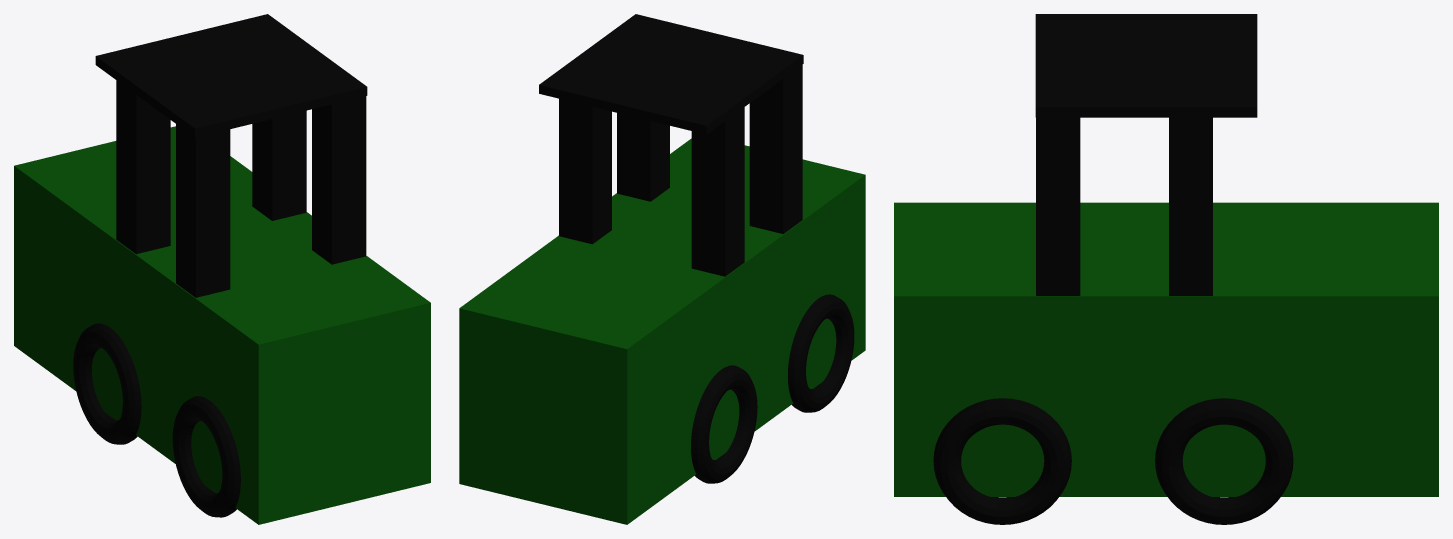
Rendered from Tractor.obj.
The picture shows the model from 3 angles, left to right: view 1: azimuth 30°, elevation 25°; view 2: azimuth 150°, elevation 25°; view 3: azimuth 270°, elevation 25°; orthographic projection. The views are drawn at different scales.
Parts seen in each view (by area): view 1: Cube_Cube.015, Cube.005_Cube.020, Cube.001_Cube.016, Cube.002_Cube.017, Cube.003_Cube.018, Cube.004_Cube.019, Torus, Torus.001; view 2: Cube_Cube.015, Cube.005_Cube.020, Cube.003_Cube.018, Cube.001_Cube.016, Cube.004_Cube.019, Torus, Torus.001, Cube.002_Cube.017; view 3: Cube_Cube.015, Cube.005_Cube.020, Torus.002, Torus.003, Cube.002_Cube.017, Cube.004_Cube.019.
Boxes of the visible parts, box(x1,y1,x2,y2) form: Cube_Cube.015: box(14, 126, 430, 524); Cube.005_Cube.020: box(95, 14, 367, 137); Cube.001_Cube.016: box(176, 124, 230, 297); Cube.002_Cube.017: box(312, 96, 366, 264); Cube.003_Cube.018: box(116, 80, 170, 254); Cube.004_Cube.019: box(252, 110, 306, 220); Torus: box(73, 323, 141, 444); Torus.001: box(172, 396, 240, 517); Cube_Cube.015: box(459, 138, 865, 524); Cube.005_Cube.020: box(539, 14, 803, 134); Cube.003_Cube.018: box(691, 107, 744, 276); Cube.001_Cube.016: box(749, 65, 802, 233); Cube.004_Cube.019: box(559, 98, 611, 244); Torus: box(691, 365, 757, 483); Torus.001: box(788, 294, 854, 412); Cube.002_Cube.017: box(617, 113, 669, 201); Cube_Cube.015: box(894, 202, 1438, 496); Cube.005_Cube.020: box(1035, 14, 1257, 117); Torus.002: box(933, 398, 1071, 524); Torus.003: box(1155, 398, 1293, 524); Cube.002_Cube.017: box(1036, 117, 1080, 295); Cube.004_Cube.019: box(1169, 117, 1212, 295).
Bounding box in the file's own units: 2.25 × 4.15 × 4.92.
